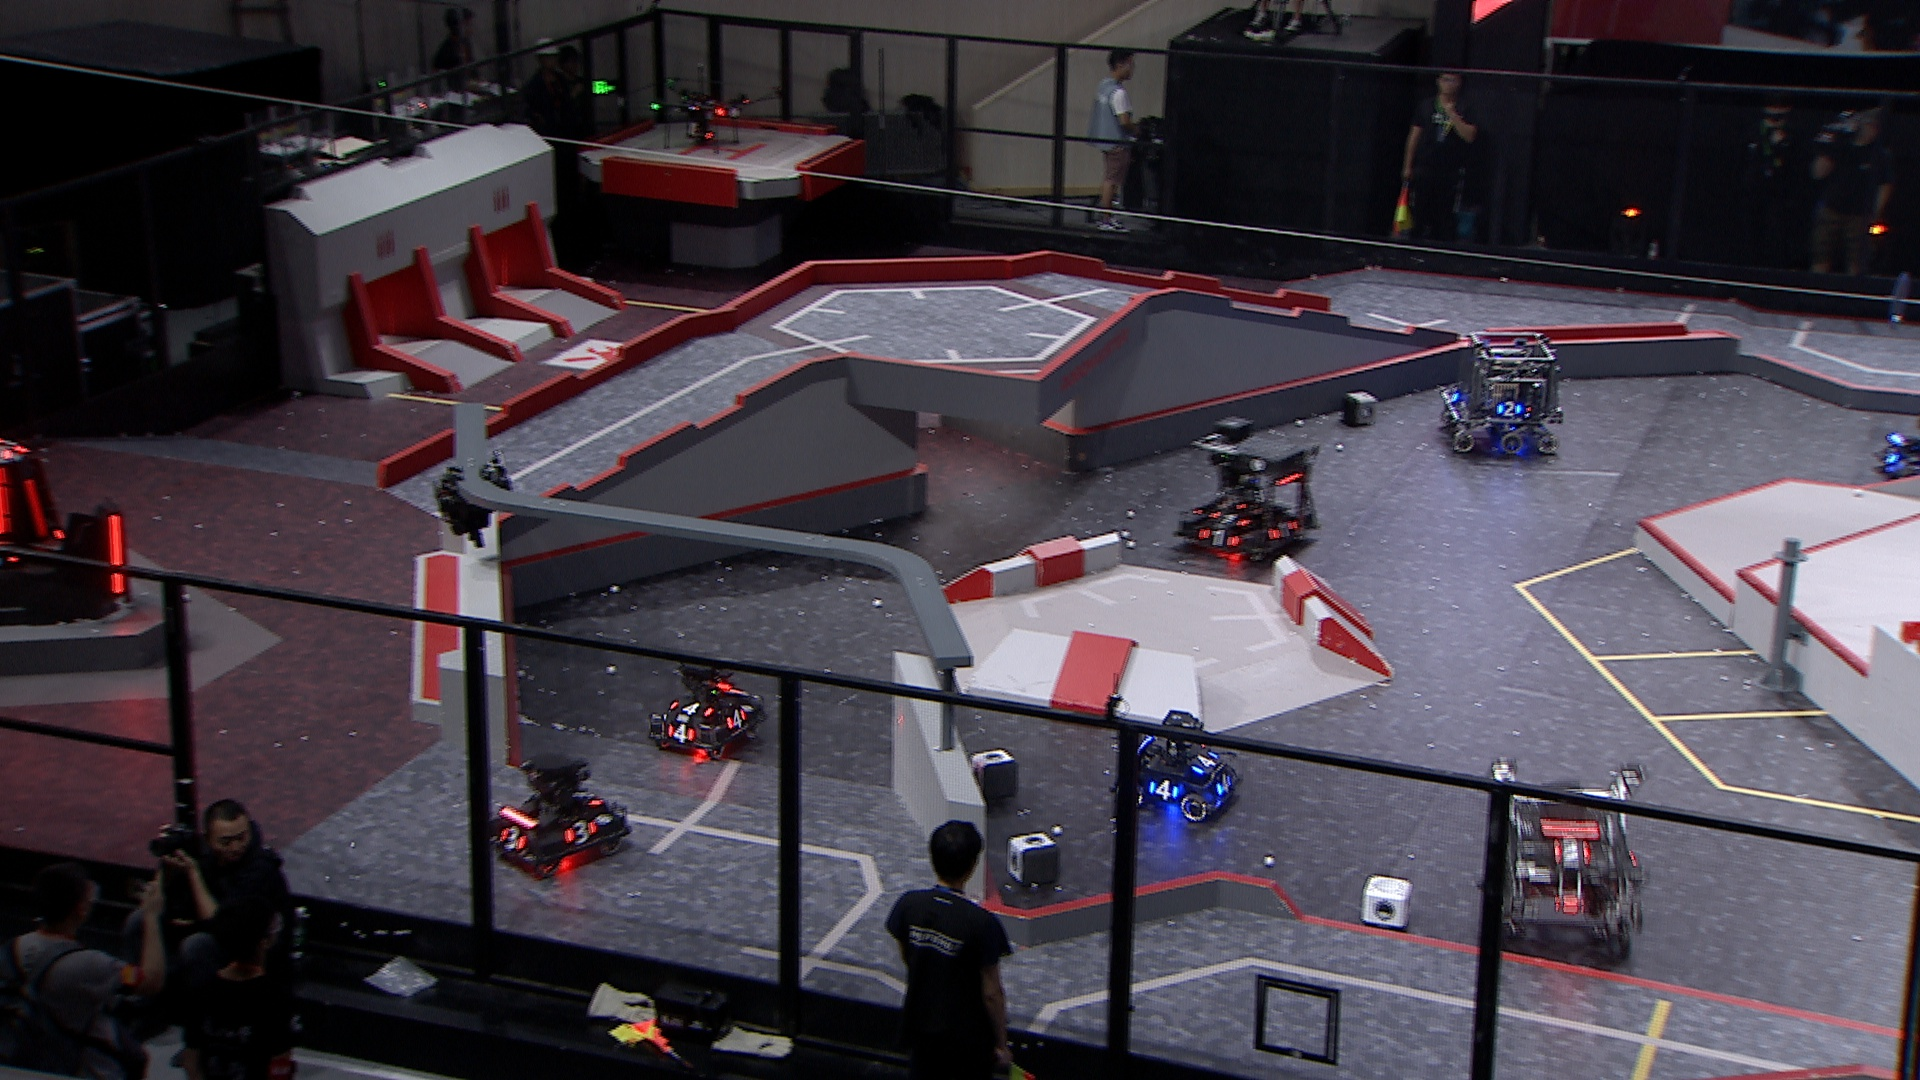armor: (105, 513, 129, 597), (22, 479, 54, 538), (1551, 835, 1594, 866), (560, 818, 600, 849), (1196, 527, 1240, 553), (1145, 777, 1183, 803), (495, 825, 527, 855), (666, 699, 713, 717), (665, 723, 699, 746), (1188, 752, 1218, 775), (1207, 512, 1250, 527), (1267, 522, 1302, 542), (1494, 400, 1524, 419), (1879, 444, 1903, 469), (723, 708, 749, 731), (1215, 771, 1237, 798), (572, 789, 608, 804)
car: (1480, 756, 1656, 945), (1168, 415, 1321, 564), (487, 750, 629, 876), (1437, 332, 1569, 458), (1116, 705, 1247, 822), (647, 650, 770, 761), (1874, 411, 1920, 484)
watcher: (433, 451, 518, 550)
